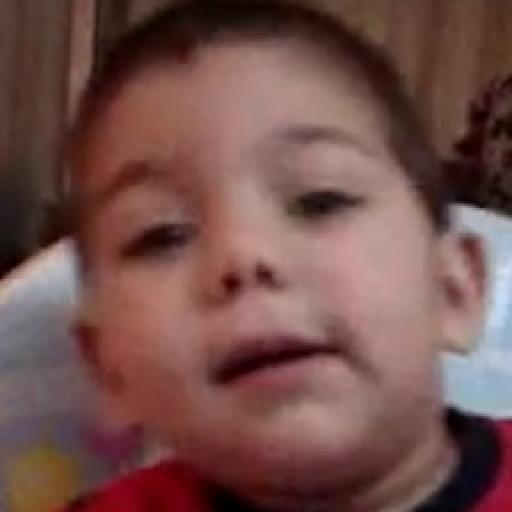Autism: (49, 12, 501, 481)
